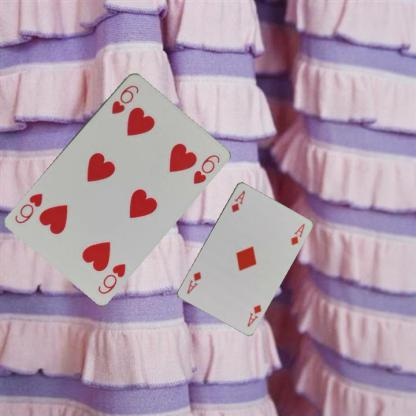6h: (108, 81, 140, 115), (95, 261, 127, 295)
Ad: (244, 302, 262, 328), (229, 188, 246, 214)
